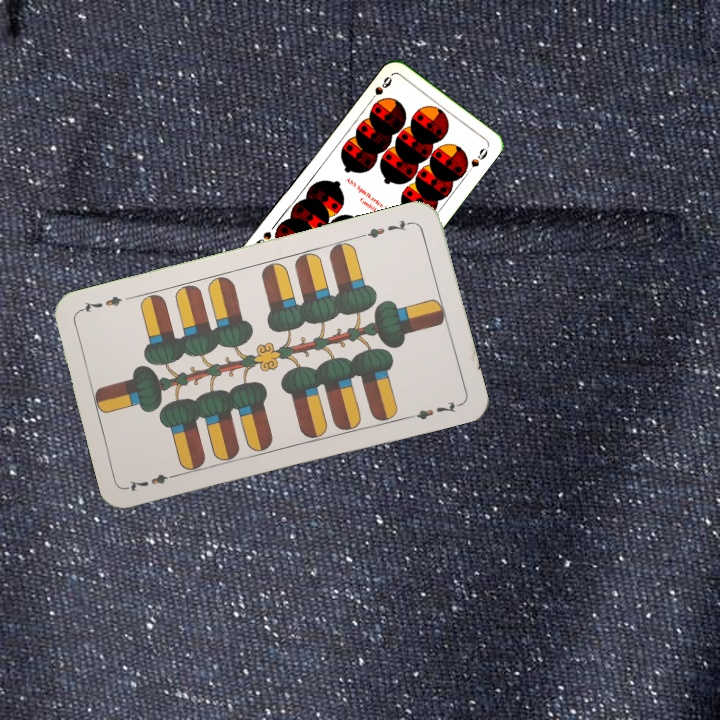E7: (357, 216, 415, 241), (124, 469, 182, 493)
S9: (365, 72, 395, 106)
